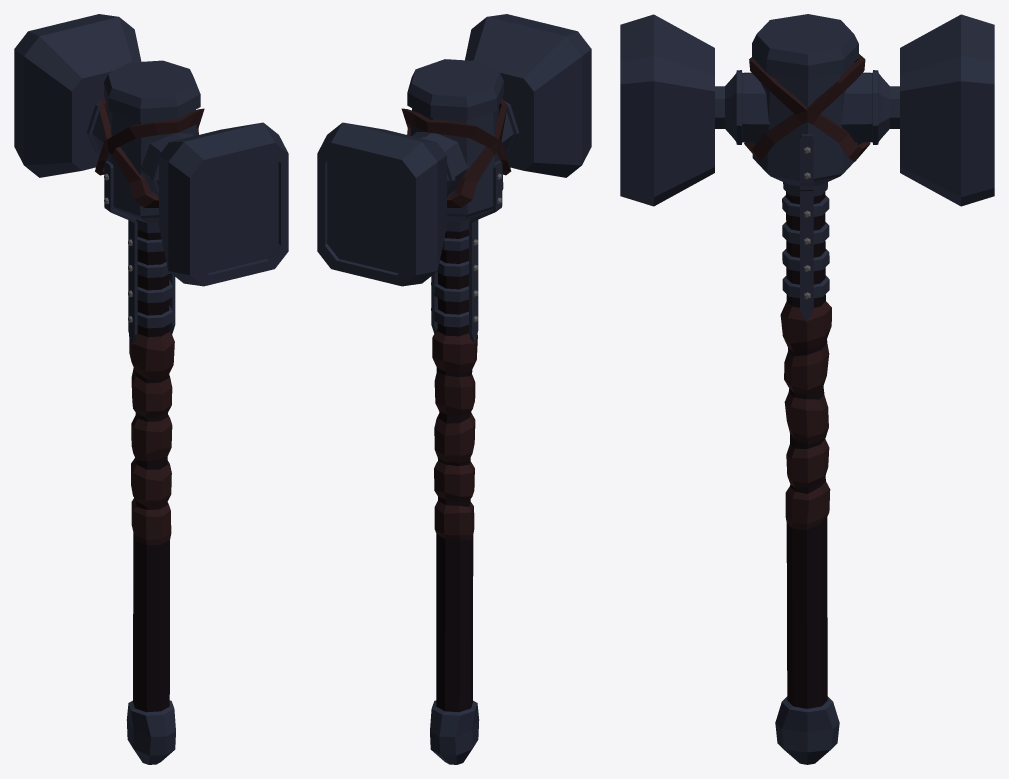
The model's file is Hammer.obj.
3 renders of one model, left to right at view 1: azimuth 30°, elevation 25°; view 2: azimuth 150°, elevation 25°; view 3: azimuth 270°, elevation 25°, orthographic. The views are drawn at different scales.
Parts seen in each view (by area): view 1: Hammer_Double; view 2: Hammer_Double; view 3: Hammer_Double.
Boxes of the visible parts, x1=… form: Hammer_Double: x1=14, y1=14, x2=288, y2=764; Hammer_Double: x1=317, y1=14, x2=591, y2=764; Hammer_Double: x1=620, y1=14, x2=994, y2=764.
Size of the model in its own units: 0.4291 by 2.53 by 1.18.
